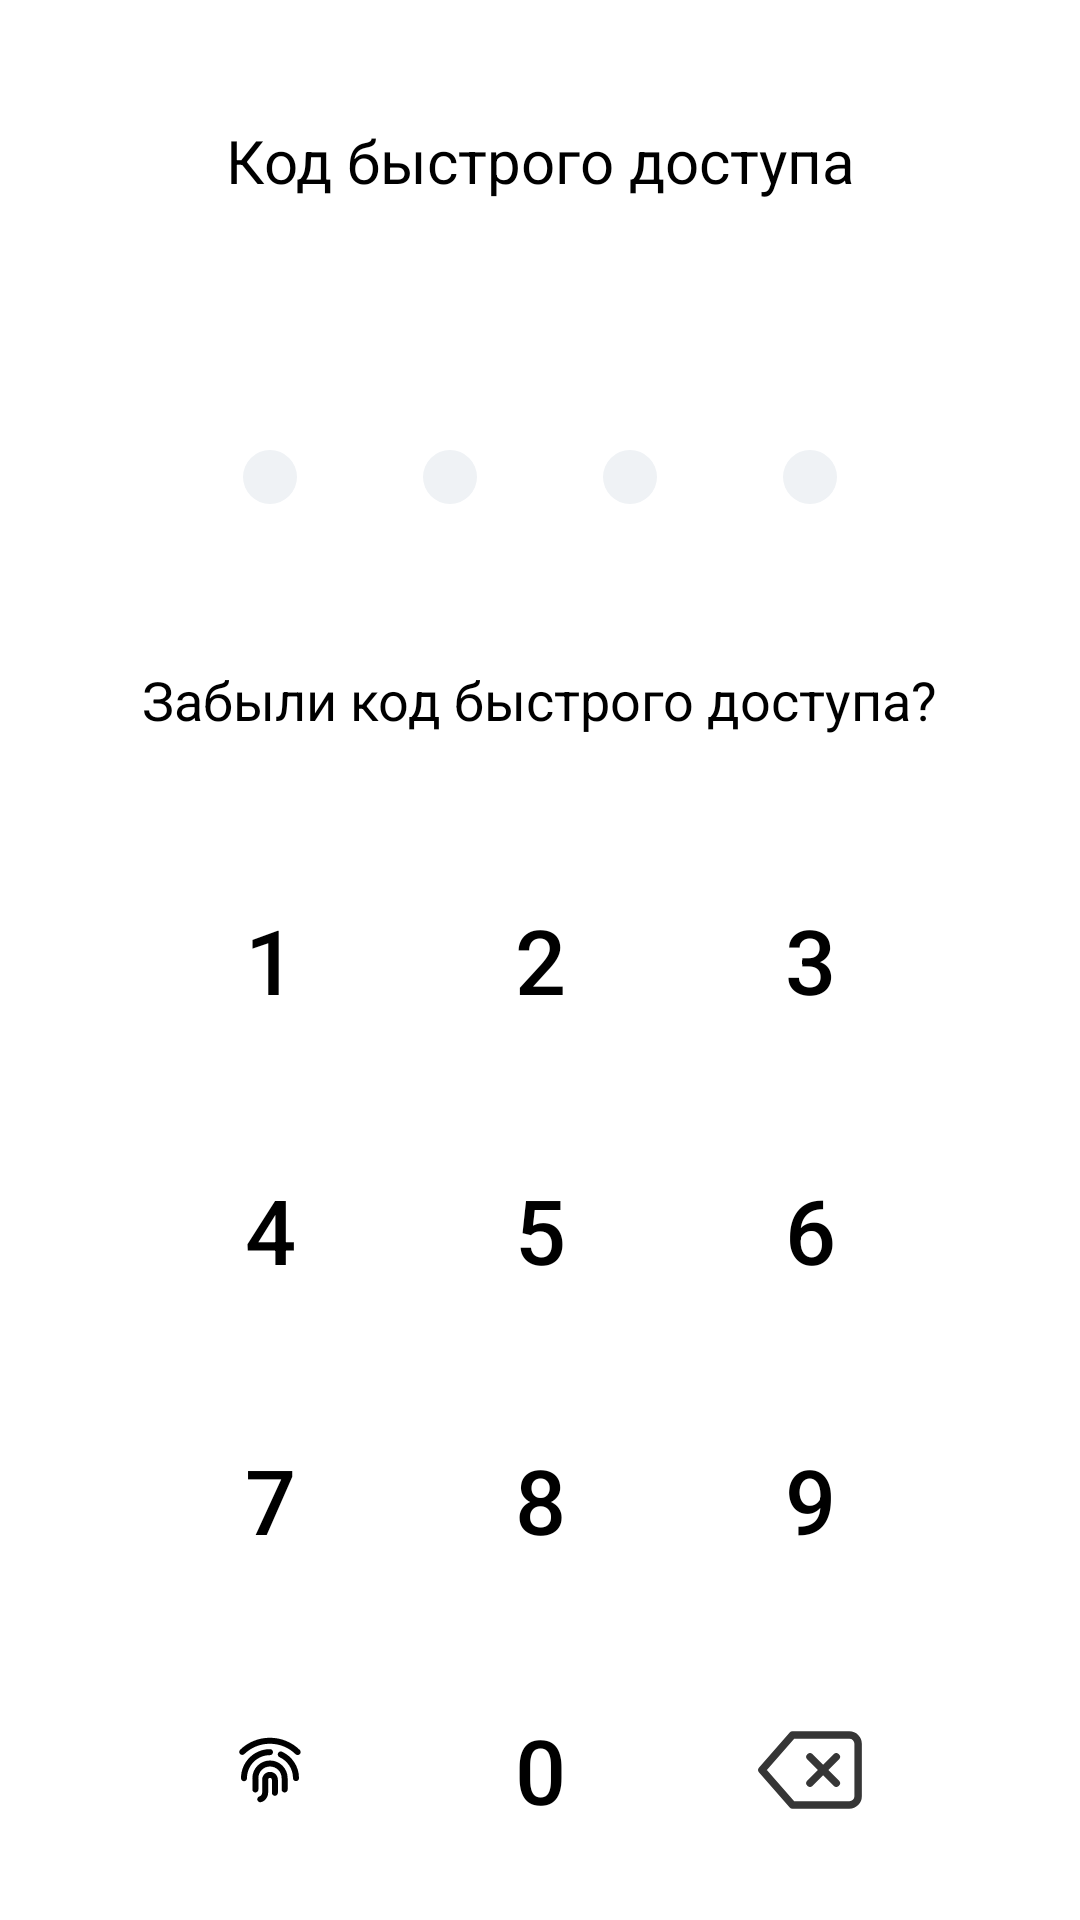

Screen size 1080x1920. Icon name, then its center in pixels as (x=x, y=y):
delete: (x=810, y=1770)
fingerprint: (x=270, y=1770)
